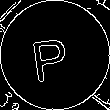P_N: (33, 28, 77, 83)
